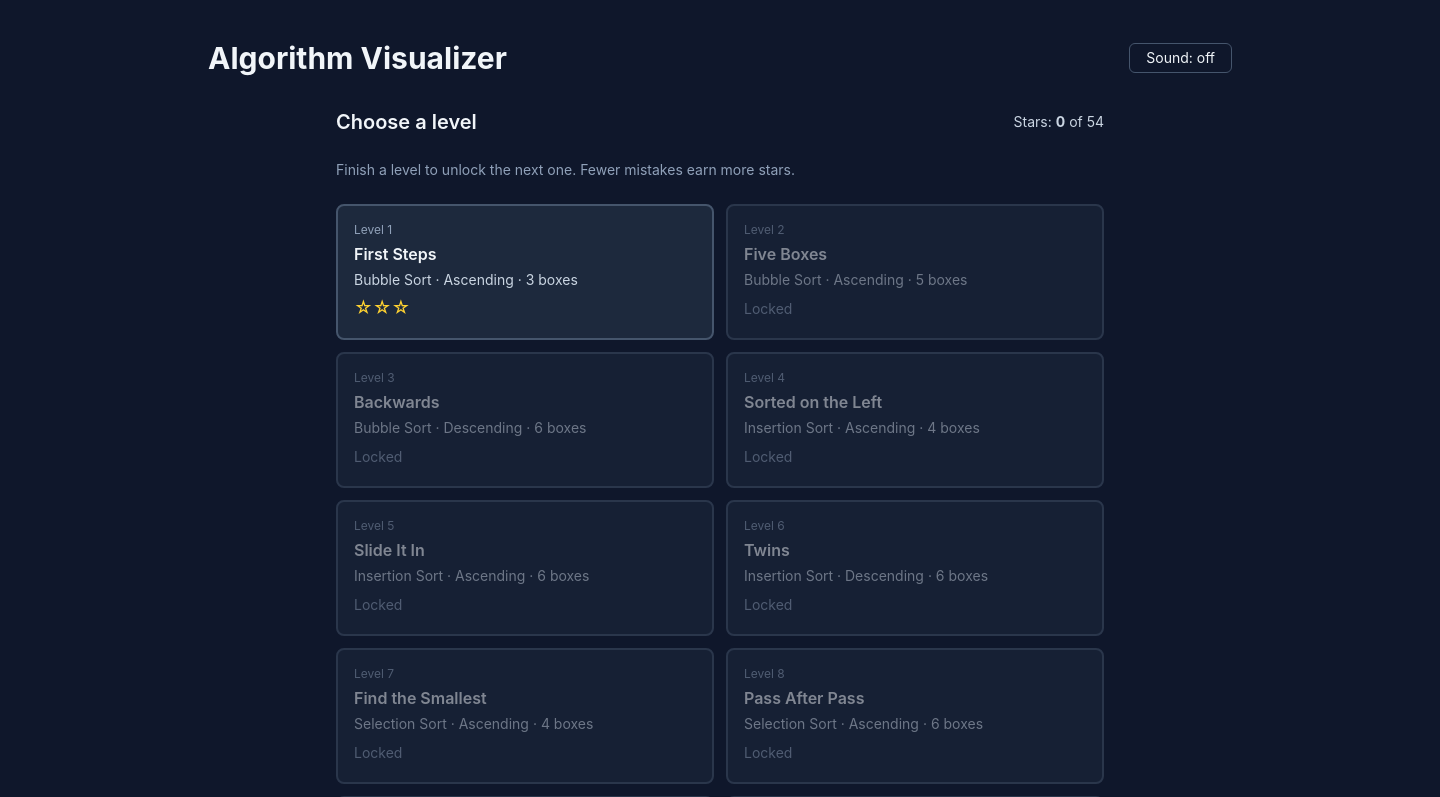
it: App › a lost level saves nothing and offers no next level
Click the button with aria-label "Level 1:".
click(525, 272)  # box x1=336 y1=204 x2=714 y2=340
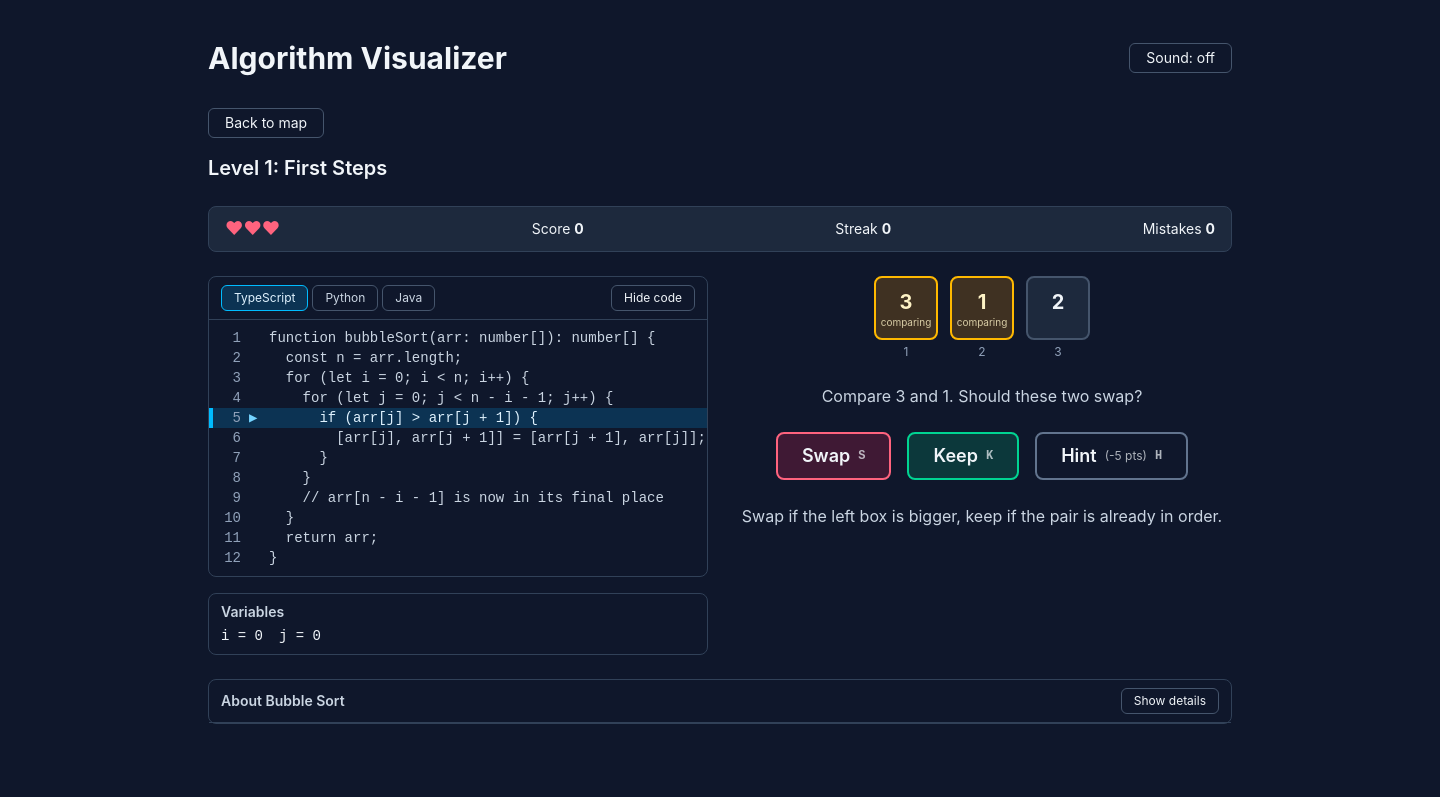
Click the button "Keep K".
click(963, 456)  # box x1=908 y1=432 x2=1019 y2=480
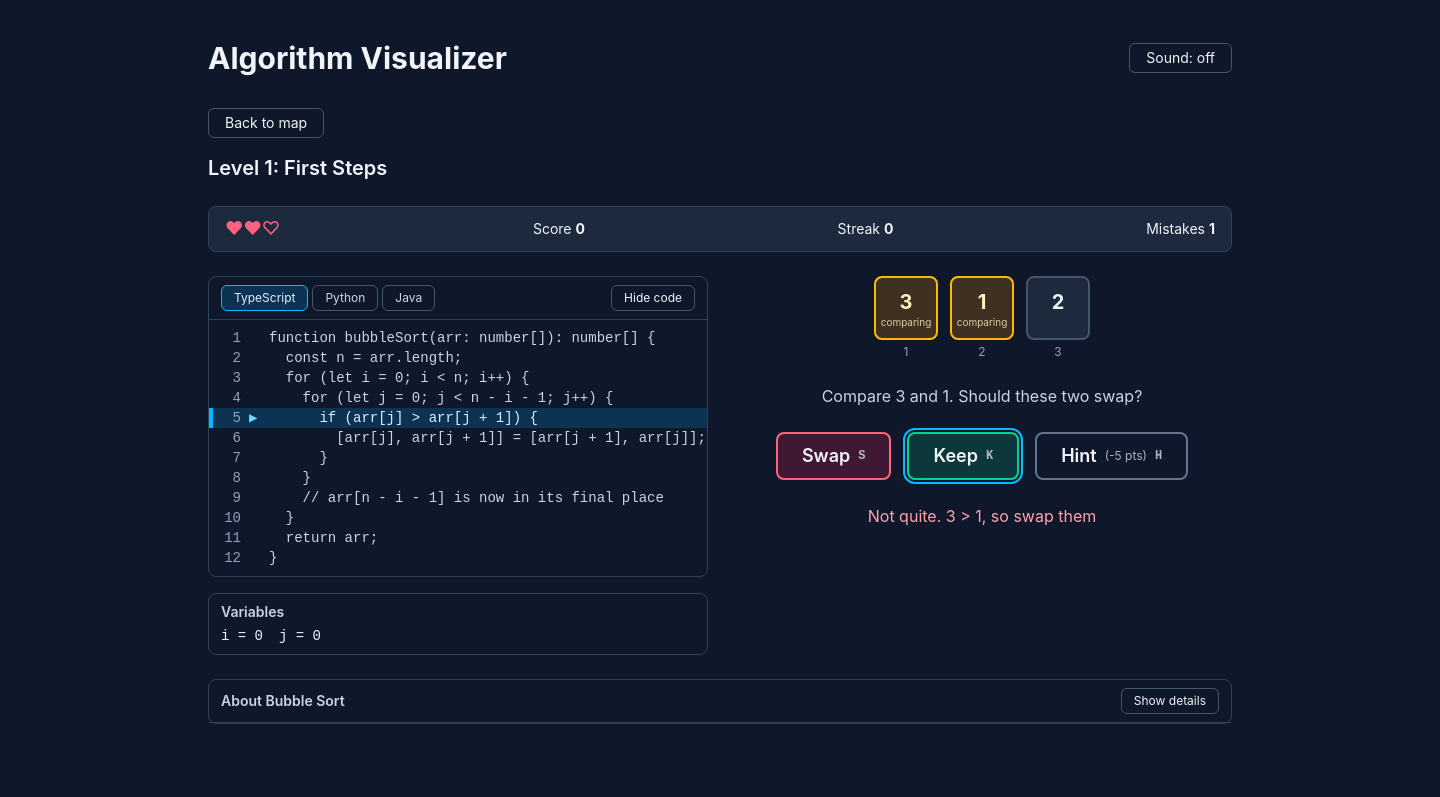
Click the button "Keep K".
click(963, 456)  # box x1=908 y1=432 x2=1019 y2=480
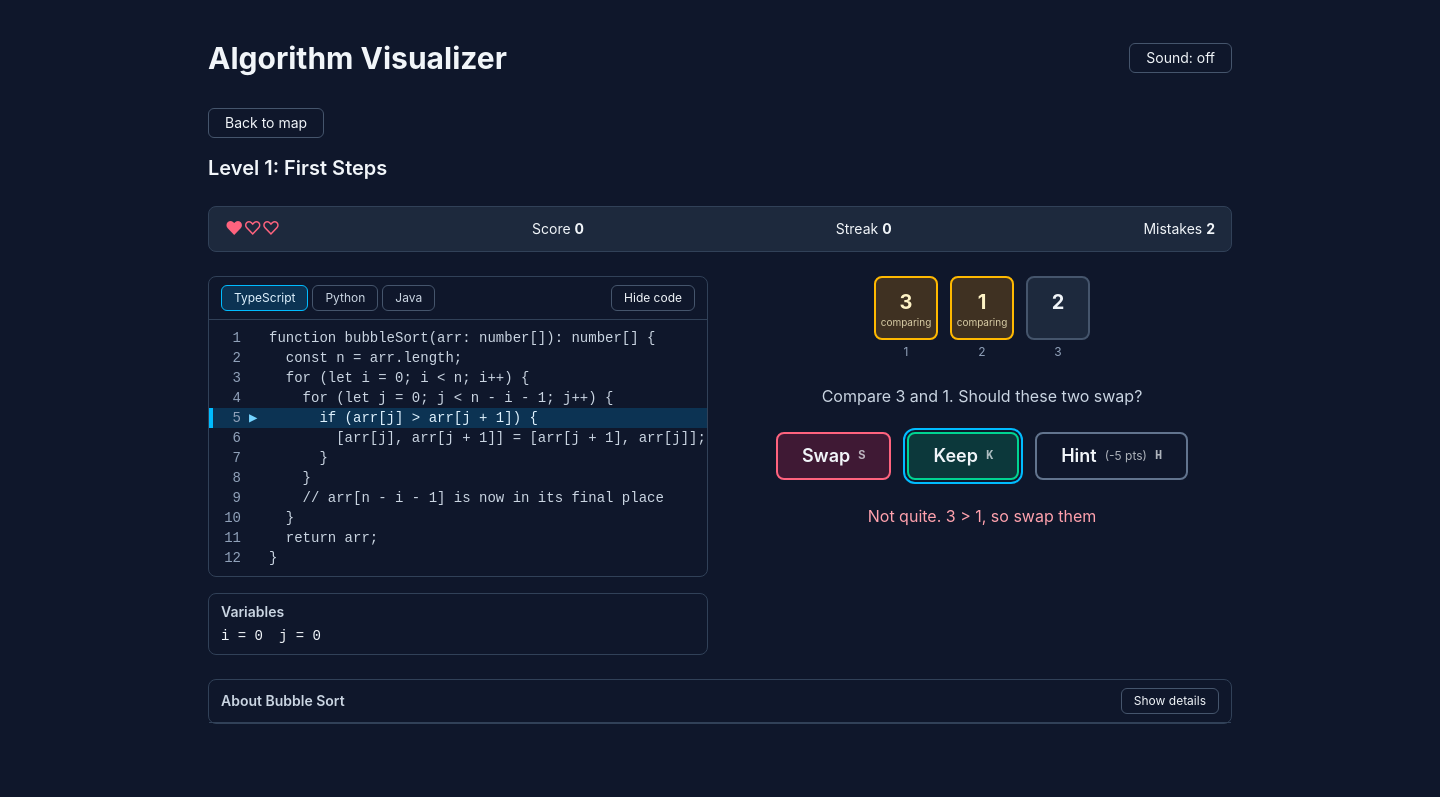
Click the button "Keep K".
click(963, 456)  # box x1=908 y1=432 x2=1019 y2=480
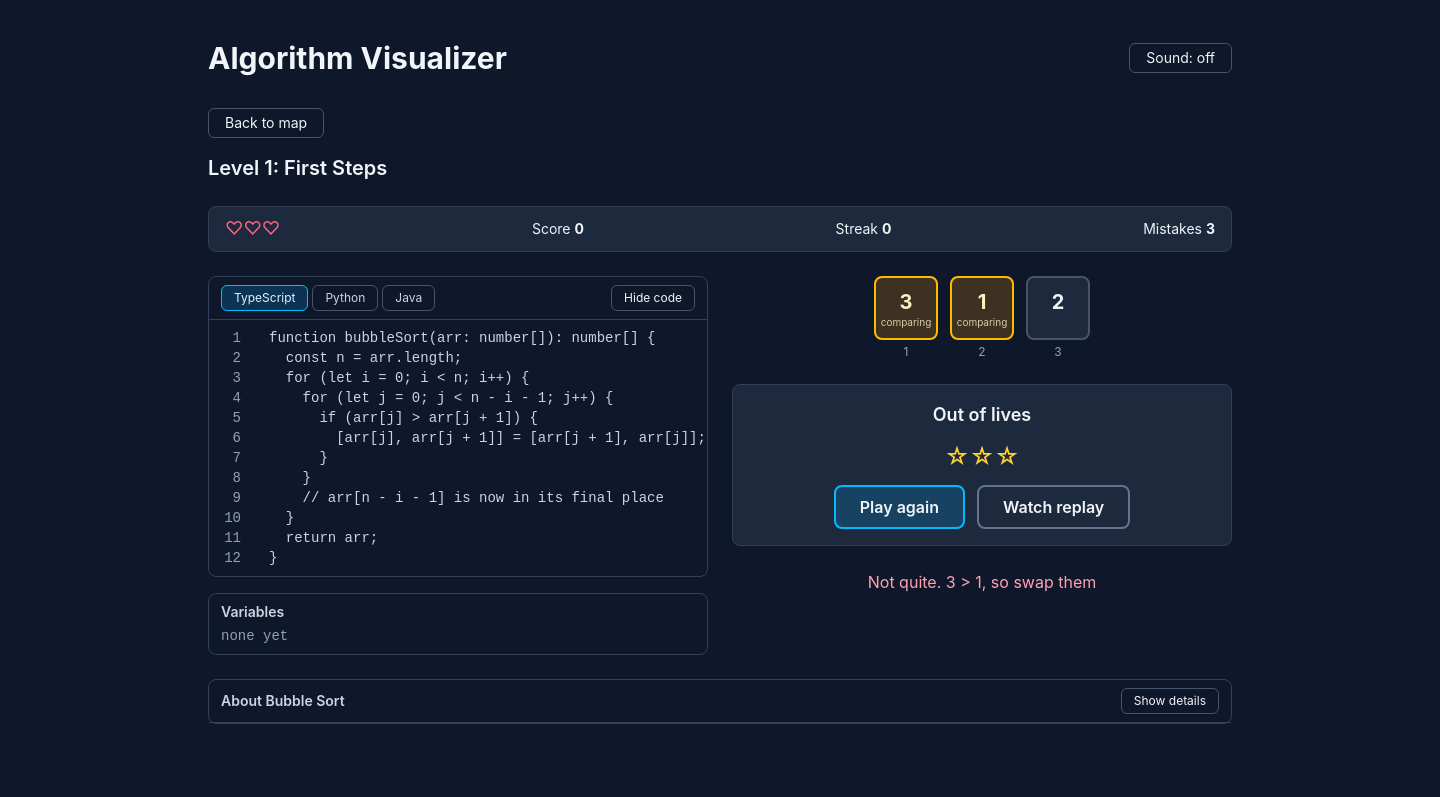
Expected: the text "Out of lives" is shown, x1=933 y1=401 x2=1031 y2=429
